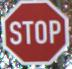Stop sign: (0, 0, 71, 68)
